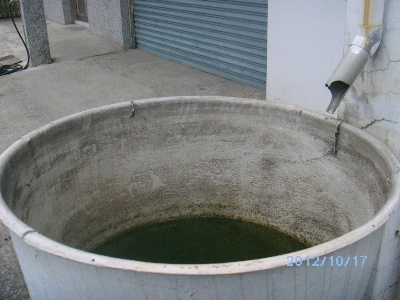bucket: (1, 94, 400, 300)
